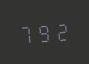nine: (36, 20, 52, 43)
seven: (18, 21, 34, 44)
two: (53, 19, 69, 42)
